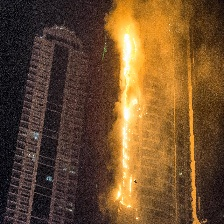fire: (112, 22, 141, 205)
